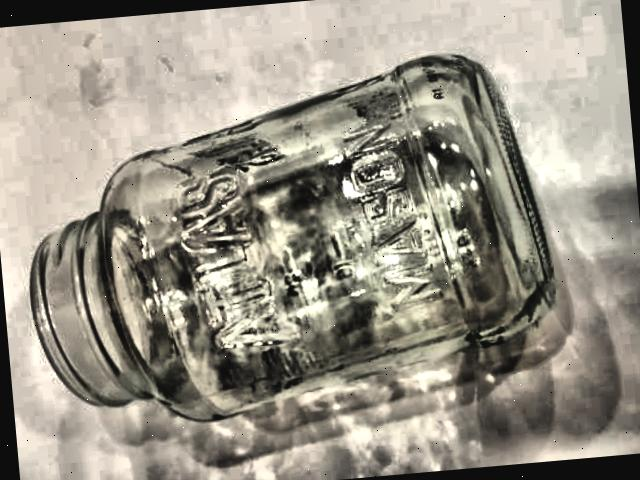Almennt: (0, 32, 609, 476)
